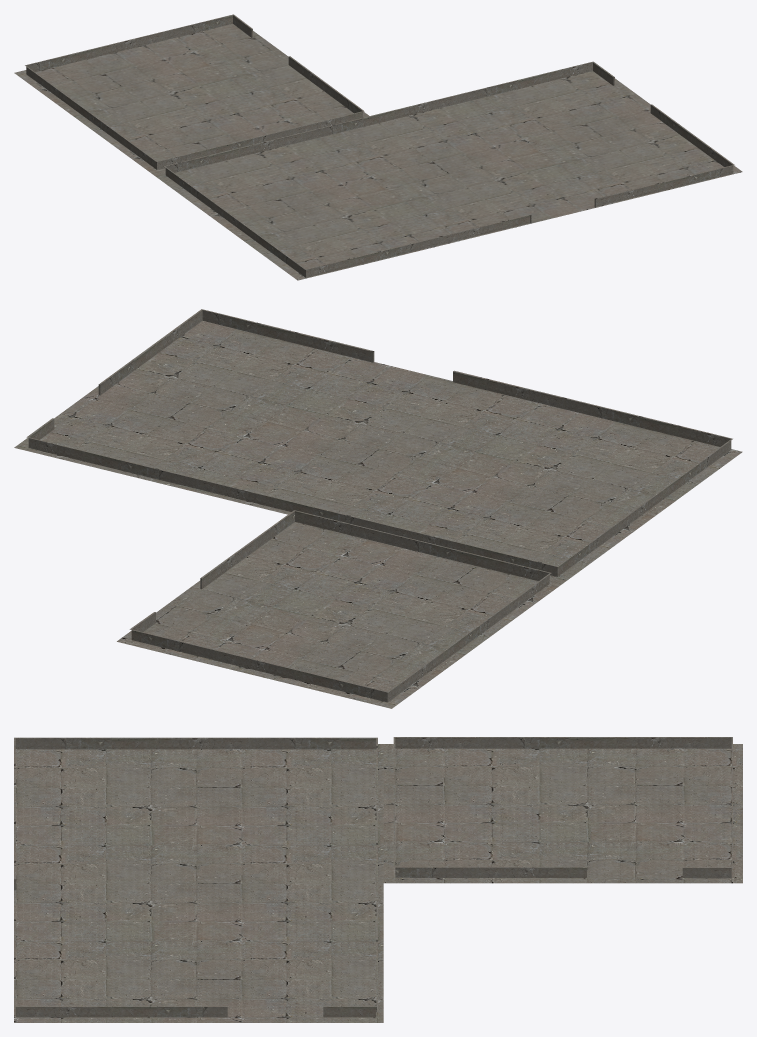
Rendered from RoofArea02_Floor.FBX.
3 renders of one model, top to bottom at view 1: azimuth 30°, elevation 25°; view 2: azimuth 150°, elevation 25°; view 3: azimuth 270°, elevation 25°, orthographic. The views are drawn at different scales.
Visible parts, largest first — view 1: RoofArea02_Floor; view 2: RoofArea02_Floor; view 3: RoofArea02_Floor.
Boxes of the visible parts, x1=… form: RoofArea02_Floor: x1=14, y1=14, x2=742, y2=280; RoofArea02_Floor: x1=14, y1=309, x2=742, y2=708; RoofArea02_Floor: x1=14, y1=737, x2=742, y2=1022.
Bounding box in the file's own units: 864 × 16.07 × 954.
